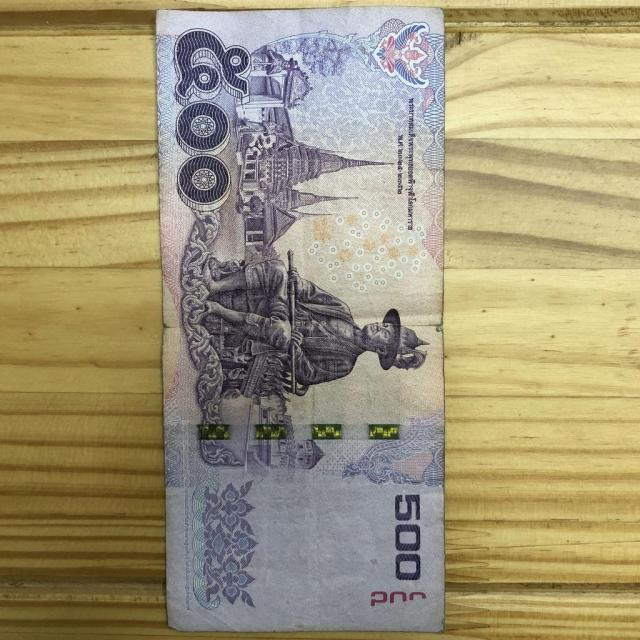THAI500: (152, 8, 449, 637)
